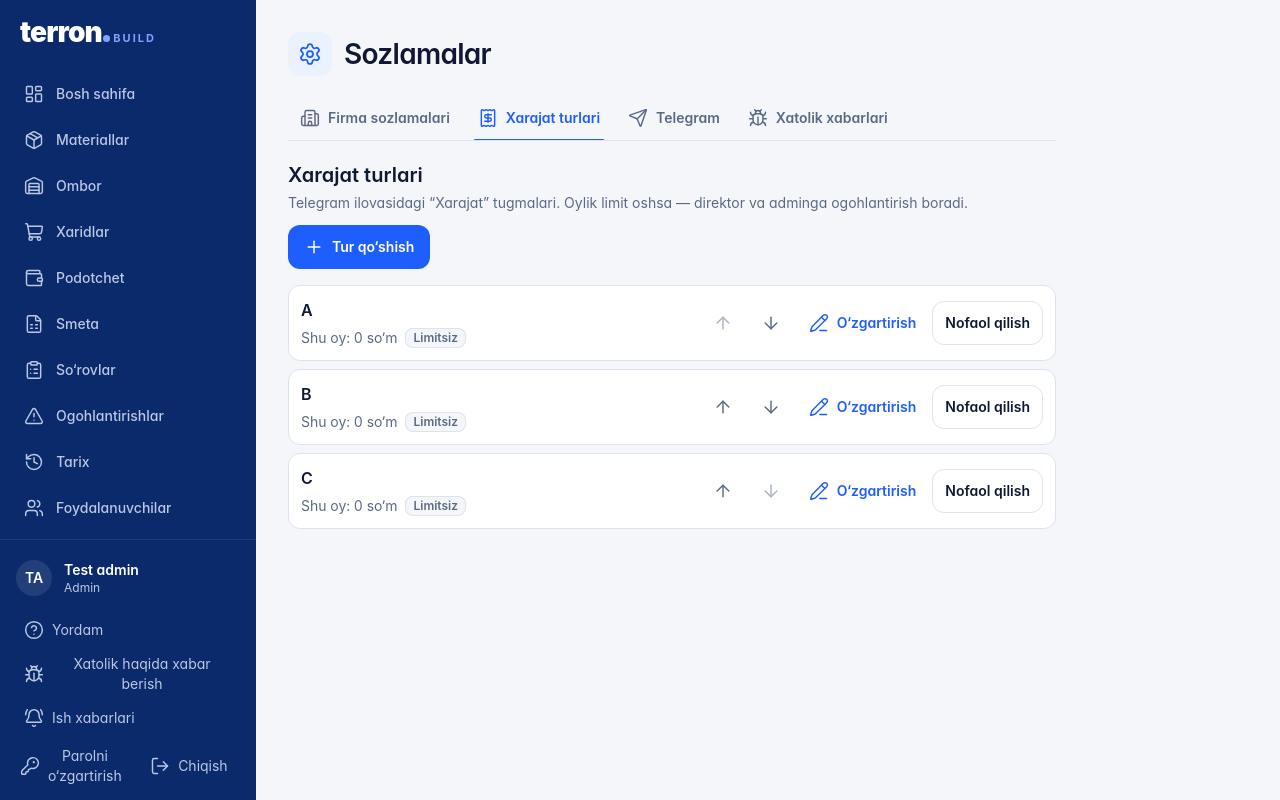
Scenario: Sozlamalar → "Xarajat turlari" › tartib: takror sort_order — barcha turlar 1..n qilib qayta yoziladi; xato — ko‘rsatiladi
The width and height of the screenshot is (1280, 800).
Click the button named "B: pastga": (771, 407) [749,385,793,429]
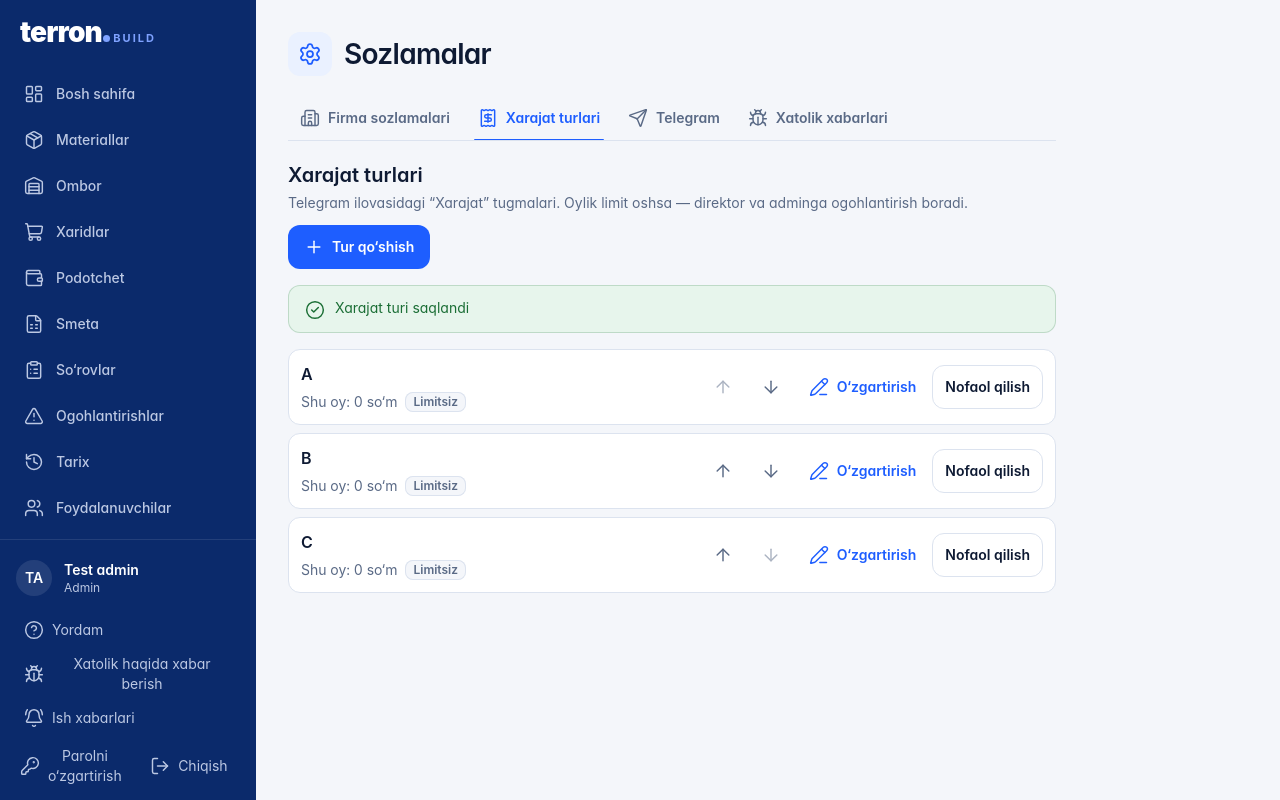
Click the button named "C: yuqoriga": (723, 555) [701,533,745,577]
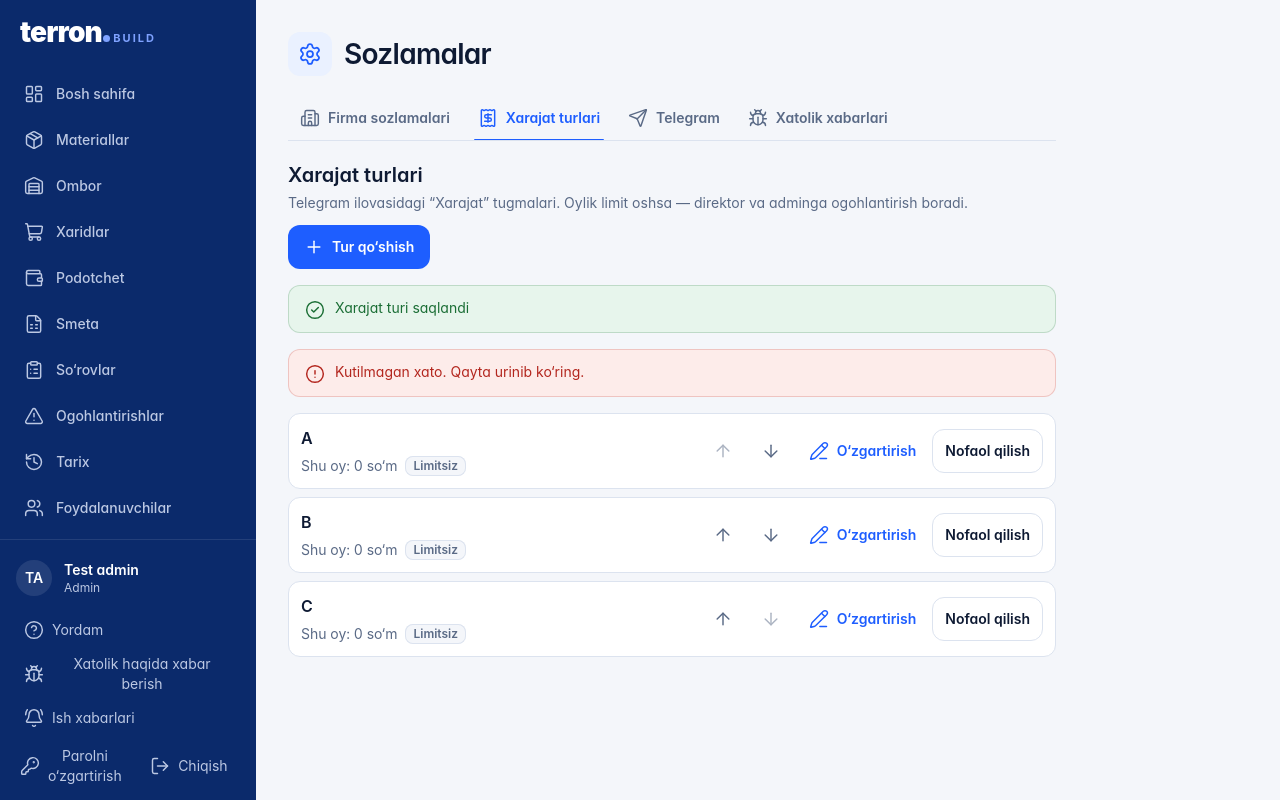
Expected: the text "Kutilmagan xato. Qayta urinib ko‘ring." is shown, [335,363,584,380]
